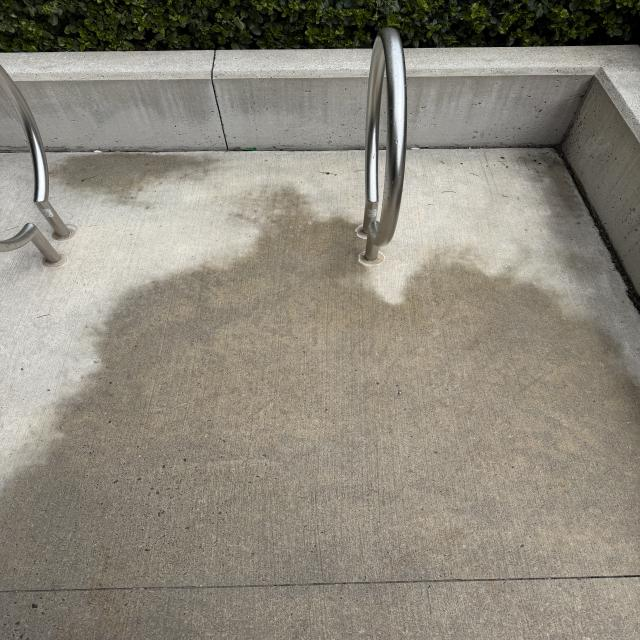Bicycle Rack: (0, 55, 77, 273), (350, 27, 410, 263)
